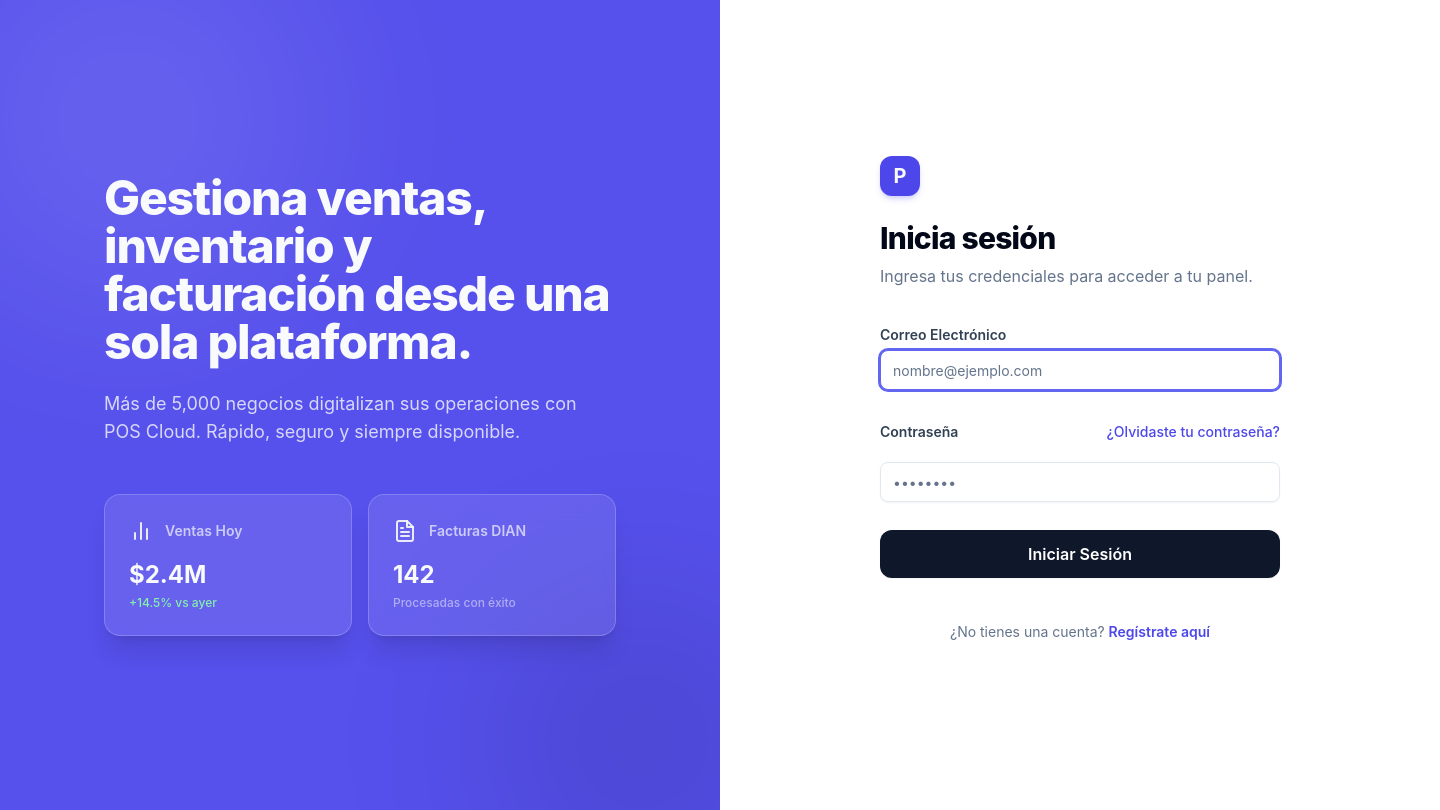
App › tras un login válido llega al paso de apertura de caja
Type "cashier@demo.posdian.local" into the field labelled "Correo Electrónico" at (1080, 370), box [880, 350, 1280, 390]
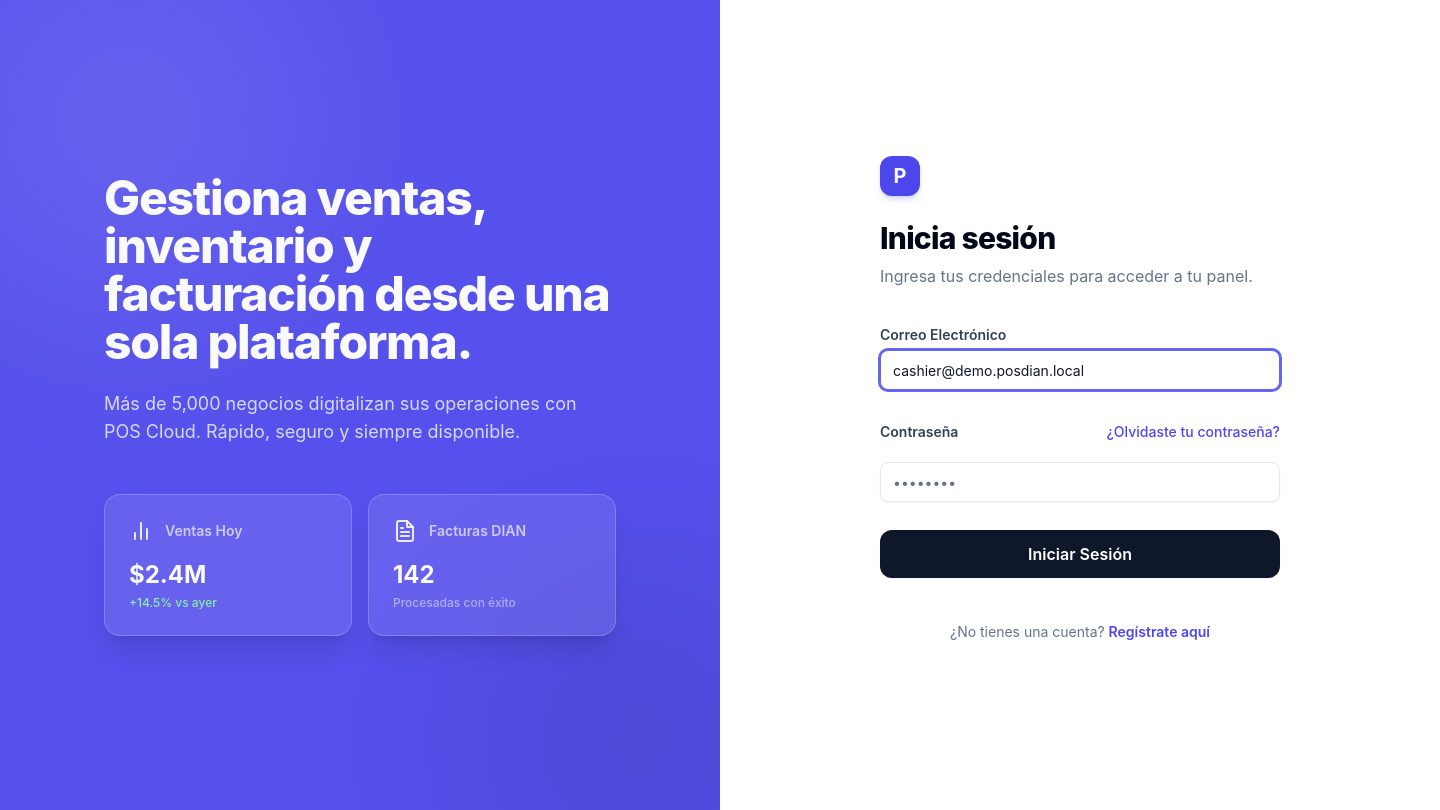
Type "Cashier123*" into the password field labelled "Contraseña" at (1080, 482), box [880, 462, 1280, 502]
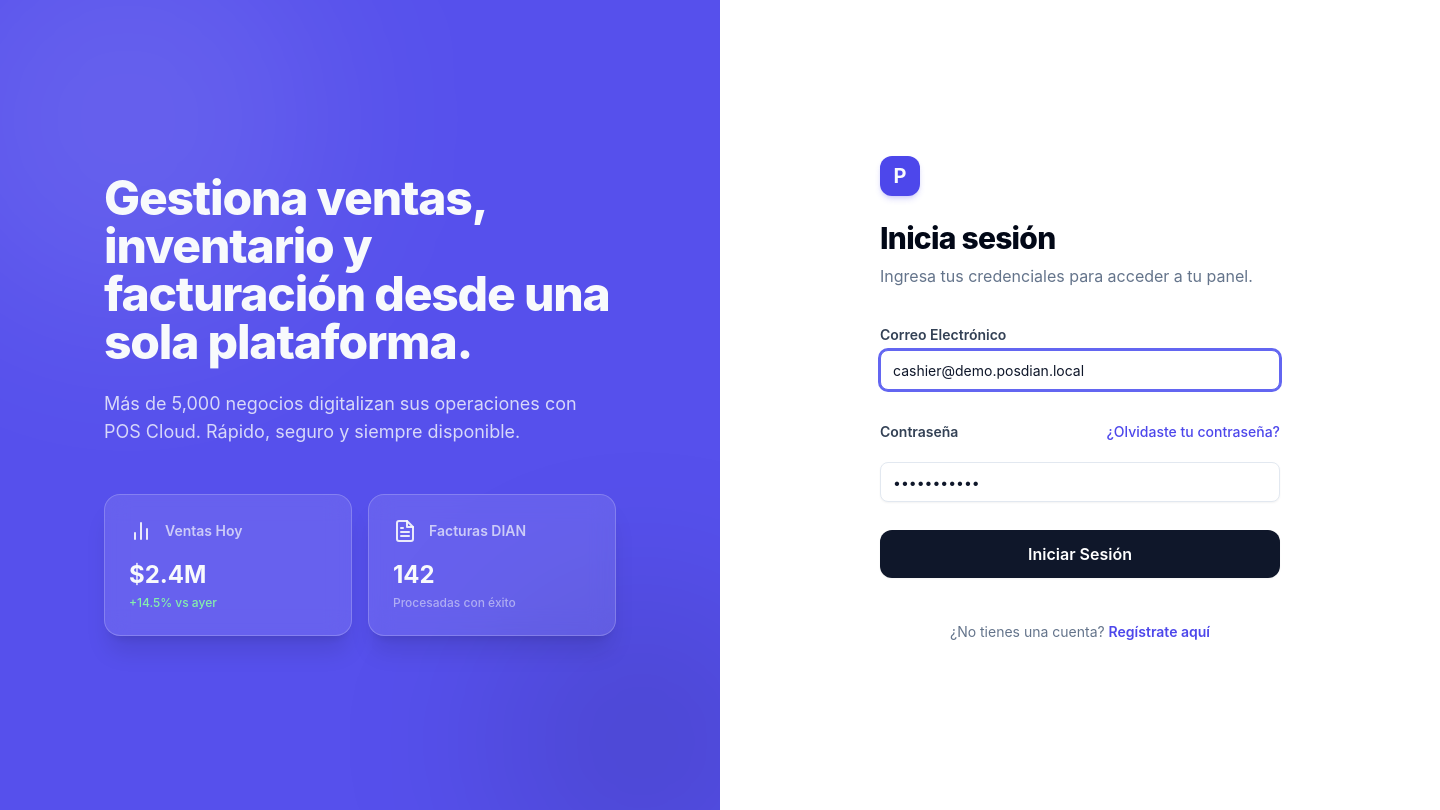
Click the button "Iniciar Sesión" at (1080, 554), box [880, 530, 1280, 578]
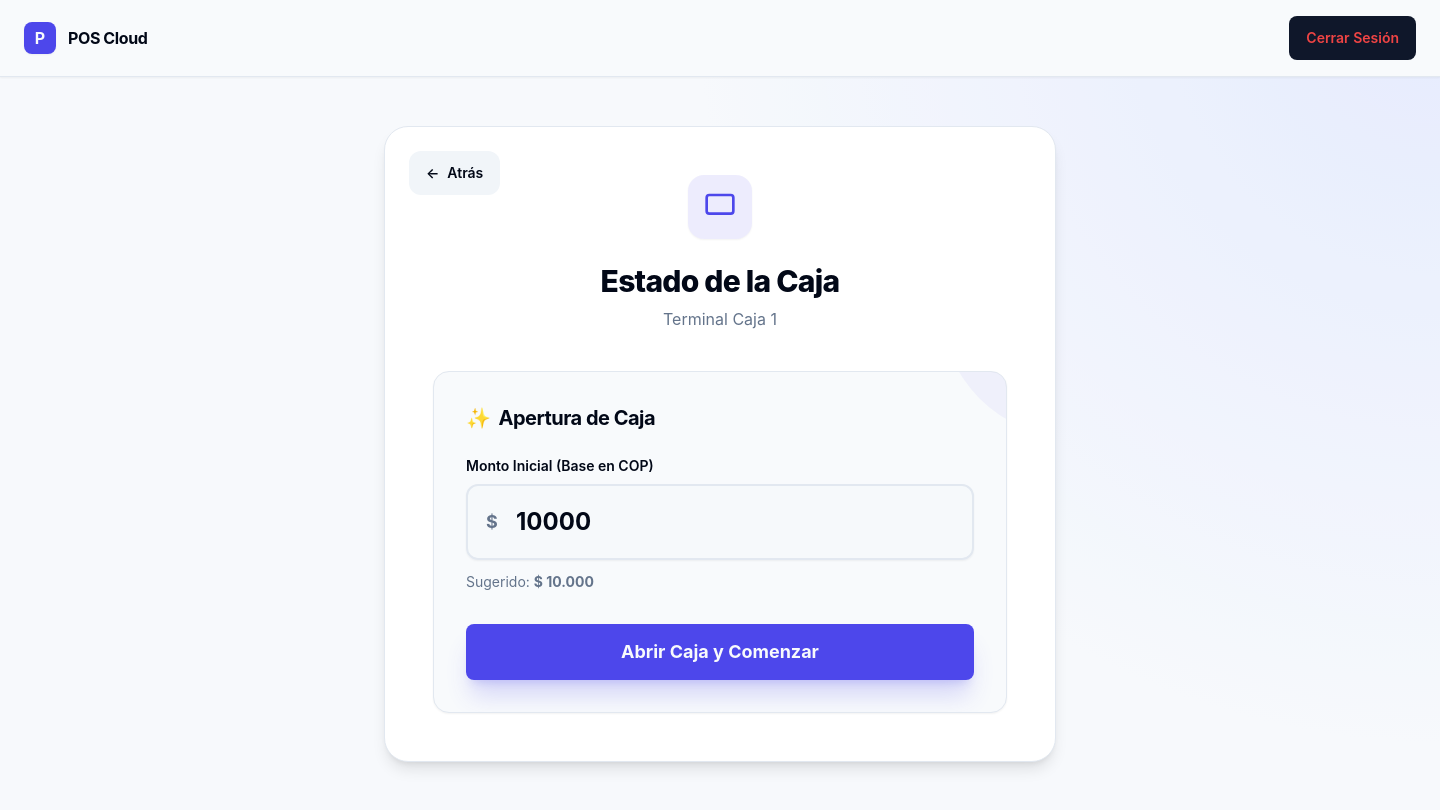
Result: the heading "Estado de la Caja" is shown at [601, 262, 839, 298]
Result: the button "Abrir Caja y Comenzar" is shown at [466, 624, 974, 680]
